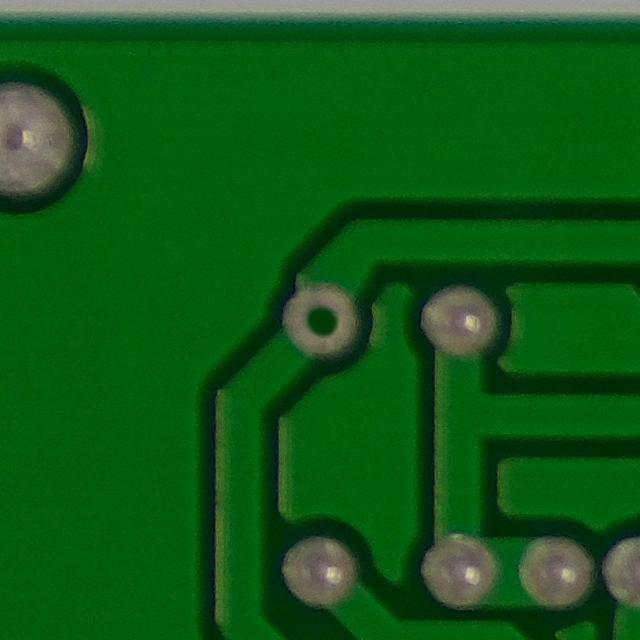missing_hole: (273, 276, 367, 365)
